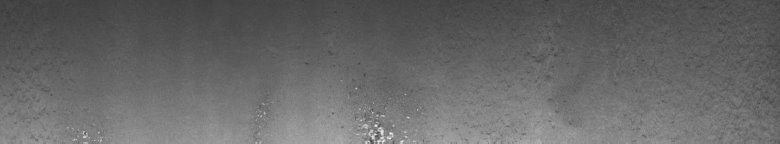hc: (328, 51, 404, 136)
